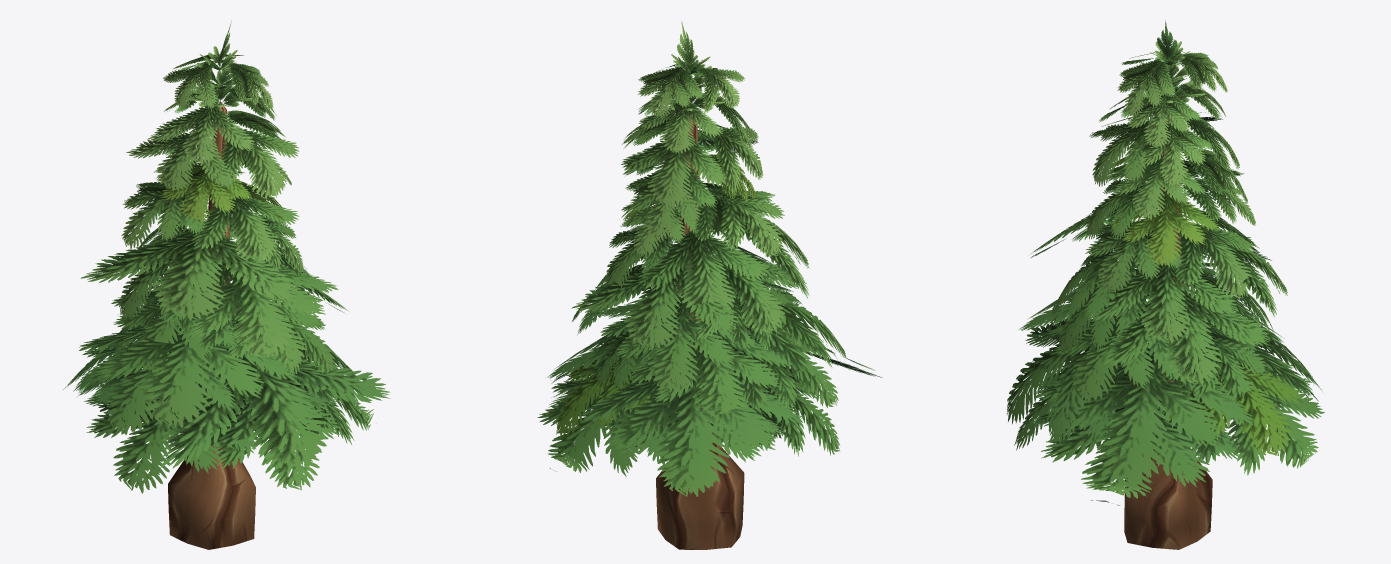
File: spruce_young.gltf
The picture shows the model from 3 angles, left to right: view 1: azimuth 30°, elevation 25°; view 2: azimuth 150°, elevation 25°; view 3: azimuth 270°, elevation 25°; orthographic projection. The views are drawn at different scales.
Visible parts, largest first — view 1: spruce_young_leaves_LOD0, spruce_young_trunk_LOD0; view 2: spruce_young_leaves_LOD0, spruce_young_trunk_LOD0; view 3: spruce_young_leaves_LOD0, spruce_young_trunk_LOD0.
Part boxes in pixels (box(x1,y1,x2,y2)): spruce_young_leaves_LOD0: box(63, 20, 390, 493); spruce_young_trunk_LOD0: box(168, 101, 255, 549); spruce_young_leaves_LOD0: box(537, 21, 882, 496); spruce_young_trunk_LOD0: box(656, 114, 744, 549); spruce_young_leaves_LOD0: box(1006, 20, 1324, 505); spruce_young_trunk_LOD0: box(1124, 118, 1212, 549).
Size of what is drawn, in the model's own units: 3.67 by 4.8 by 3.47.
2 materials, 2 textured.
